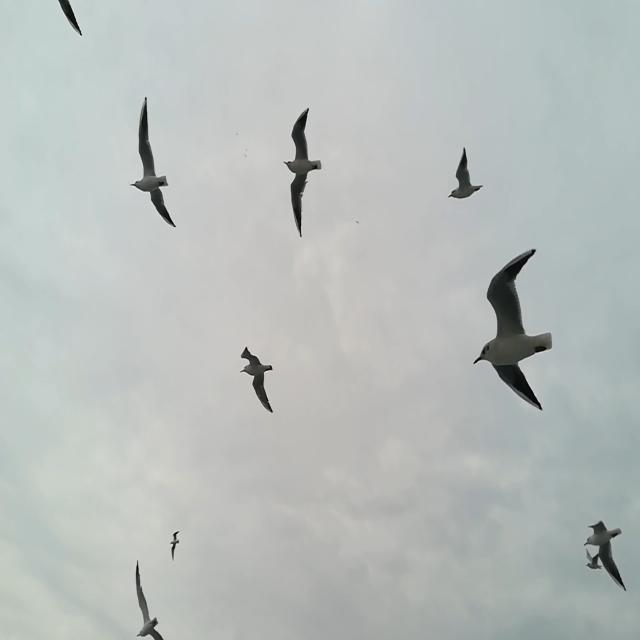bird: (474, 246, 555, 411), (131, 97, 175, 228), (282, 105, 321, 237), (584, 522, 626, 595), (133, 559, 166, 639), (241, 344, 274, 416), (445, 147, 485, 200), (58, 0, 84, 39), (584, 544, 604, 572), (170, 531, 182, 560)
